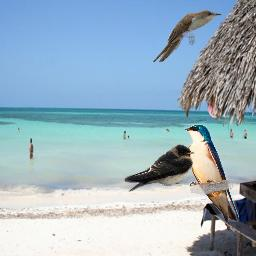Cuckoo: (153, 10, 222, 62)
Swallow: (184, 124, 239, 222), (124, 144, 195, 192)
